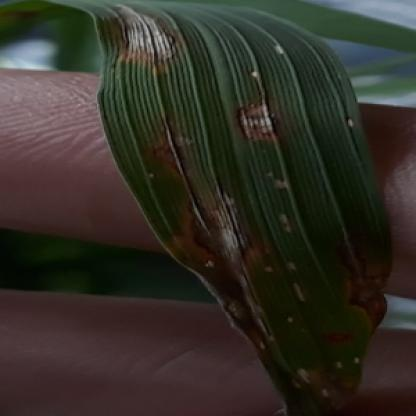Rice blast: (133, 118, 274, 344), (335, 248, 402, 348), (113, 1, 183, 83), (242, 90, 284, 148)
